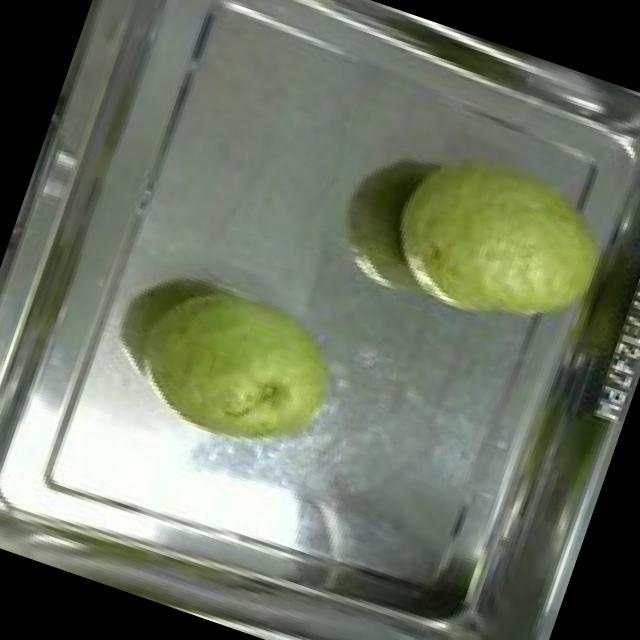Fruit: (364, 115, 626, 358), (110, 253, 366, 480)
